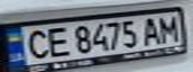4: (90, 20, 112, 52)
5: (121, 17, 142, 48)
7: (106, 19, 124, 51)
8: (72, 22, 93, 55)
A: (139, 16, 166, 45)
C: (18, 27, 51, 61)
E: (42, 25, 72, 57)
M: (154, 14, 181, 43)
